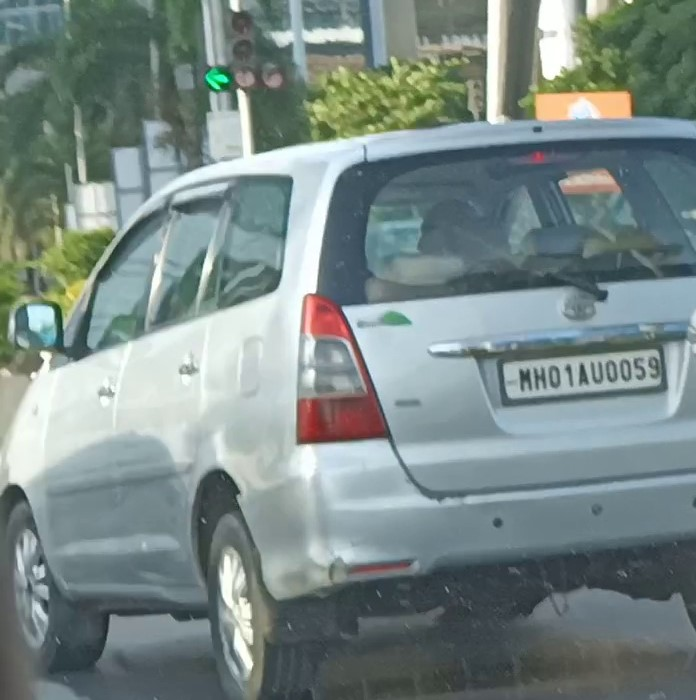MH01AU0059: (502, 349, 663, 392)
